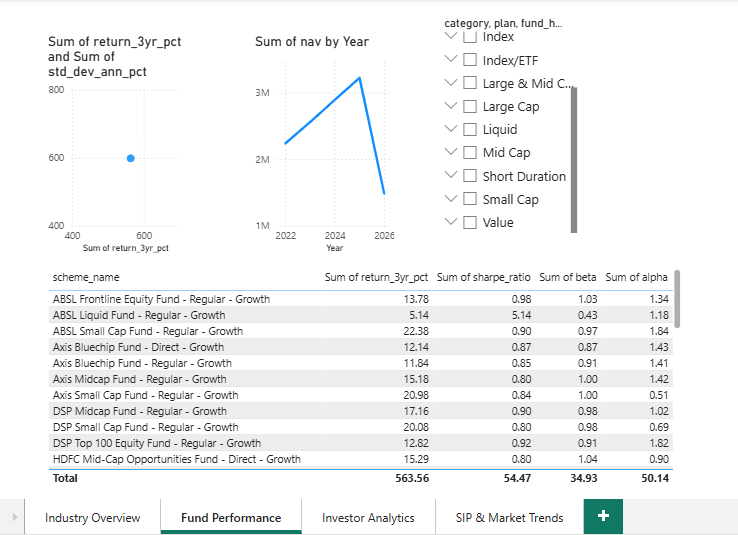

What the dashboard file says about the page in this screenshot:
{"tool":"powerbi","page":{"name":"Fund Performance","canvas":[1280,720],"ordinal":1},"visuals":[{"type":"scatterChart","fields":{"X":["Sum(clean_scheme_performance.return_3yr_pct)"],"Y":["Sum(clean_scheme_performance.std_dev_ann_pct)"]},"box":[67.8,45.6,184.4,280],"z":0},{"type":"tableEx","fields":{"Values":["clean_scheme_performance.scheme_name","Sum(clean_scheme_performance.return_3yr_pct)","Sum(clean_scheme_performance.sharpe_ratio)","Sum(clean_scheme_performance.beta)","Sum(clean_scheme_performance.alpha)"]},"box":[67.8,335.6,801.1,280],"z":1},{"type":"lineChart","fields":{"Category":["clean_nav_history.date.Variation.Date Hierarchy.Year","clean_nav_history.date.Variation.Date Hierarchy.Quarter","clean_nav_history.date.Variation.Date Hierarchy.Month","clean_nav_history.date.Variation.Date Hierarchy.Day"],"Y":["Sum(clean_nav_history.nav)"]},"box":[326.7,45.6,184.4,280],"z":2},{"type":"slicer","fields":{"Values":["clean_scheme_performance.category","clean_scheme_performance.plan","clean_scheme_performance.fund_house"]},"box":[555.6,20,184.4,280],"z":3}]}

Visuals, with their boxes on the page's 1280x720 design canvas (x1, y1, x2, y2). These are canvas units, not pixel positions in the 738x535 screenshot, which may show the page scaled, cropped or inside an application window:
scatterChart - Sum(clean_scheme_performance.return_3yr_pct) x Sum(clean_scheme_performance.std_dev_ann_pct): [left=68, top=46, right=252, bottom=326]
tableEx - clean_scheme_performance.scheme_name x Sum(clean_scheme_performance.return_3yr_pct): [left=68, top=336, right=869, bottom=616]
lineChart - clean_nav_history.date.Variation.Date Hierarchy.Year x clean_nav_history.date.Variation.Date Hierarchy.Quarter: [left=327, top=46, right=511, bottom=326]
slicer - clean_scheme_performance.category x clean_scheme_performance.plan: [left=556, top=20, right=740, bottom=300]
